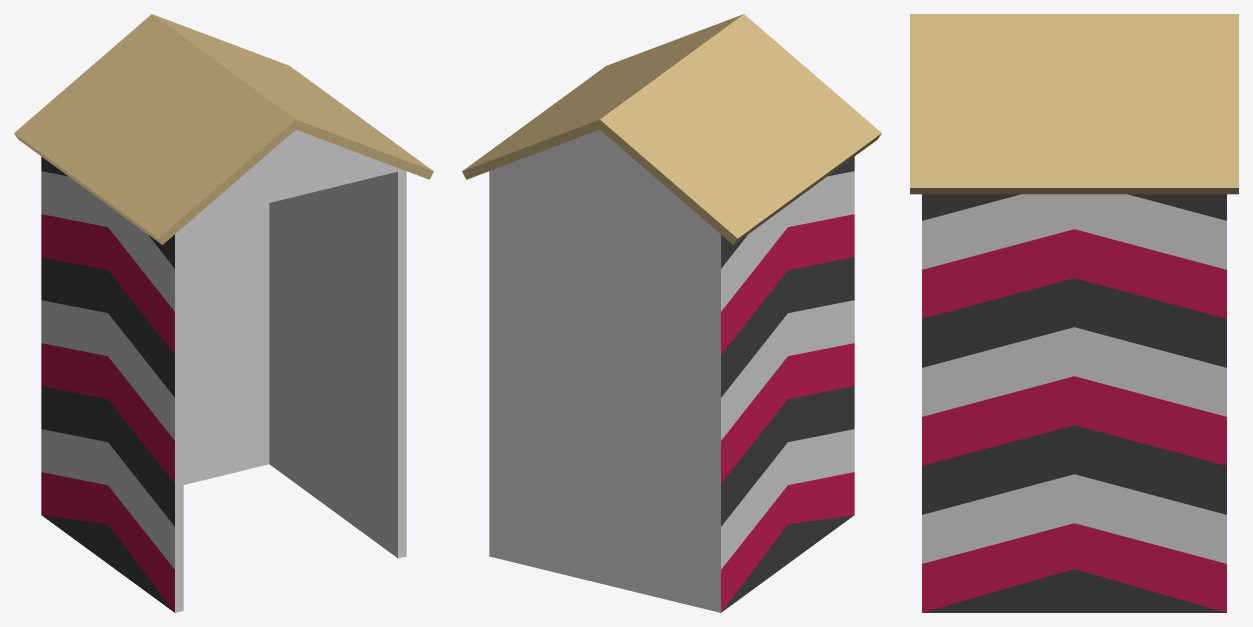
File: Checkpost.FBX
The picture shows the model from 3 angles, left to right: view 1: azimuth 30°, elevation 25°; view 2: azimuth 150°, elevation 25°; view 3: azimuth 270°, elevation 25°; orthographic projection. The views are drawn at different scales.
Visible parts, largest first — view 1: checkpost; view 2: checkpost; view 3: checkpost.
Boxes of the visible parts, bbox=[...] form: checkpost: bbox=[14, 14, 433, 612]; checkpost: bbox=[462, 14, 881, 612]; checkpost: bbox=[910, 14, 1238, 612].
Size of the model in its own units: 1.43 by 2.32 by 1.29.
Materials: 1 (1 with a texture image).
